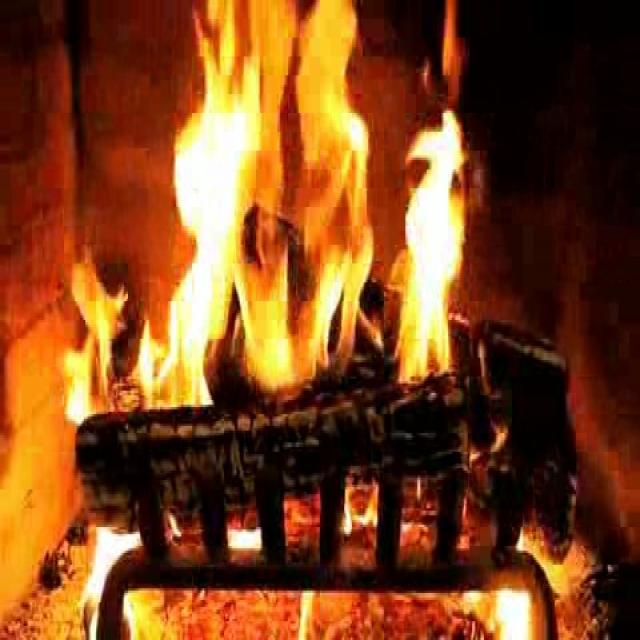fire: (158, 8, 468, 406)
